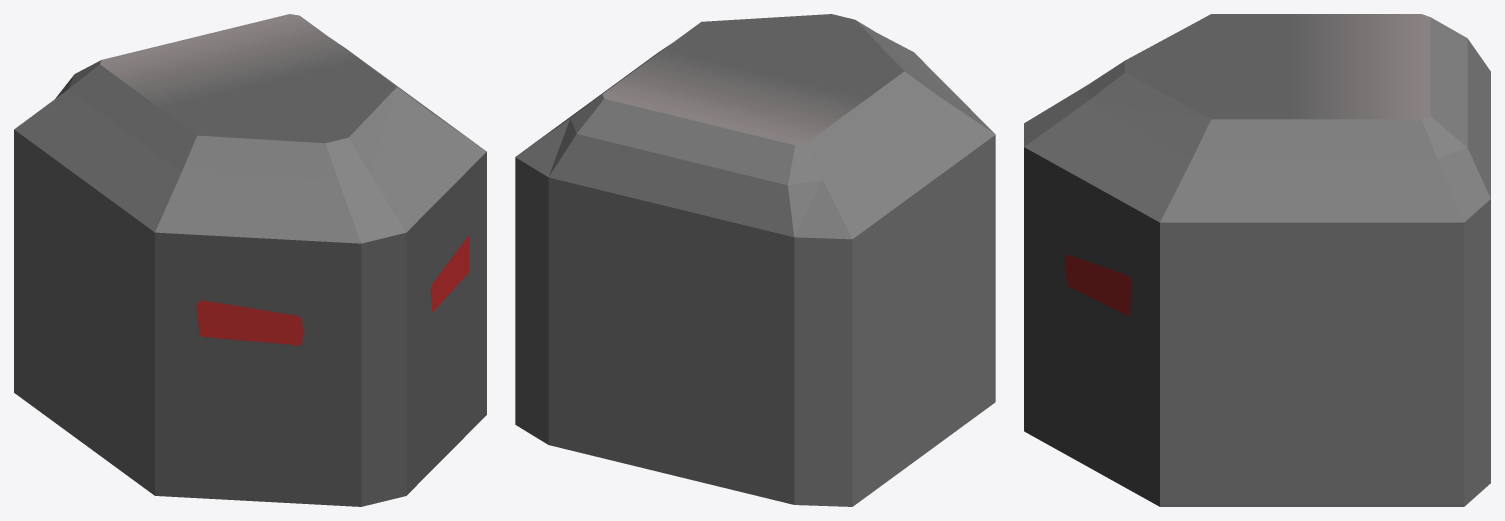
File: player.obj
The picture shows the model from 3 angles, left to right: view 1: azimuth 30°, elevation 25°; view 2: azimuth 150°, elevation 25°; view 3: azimuth 270°, elevation 25°; orthographic projection. The views are drawn at different scales.
Visible parts, largest first — view 1: 立方体; view 2: 立方体; view 3: 立方体.
Boxes of the visible parts, <box> form: 立方体: <box>14,14,486,506</box>; 立方体: <box>515,14,995,506</box>; 立方体: <box>1024,14,1490,506</box>.
Bounding box in the file's own units: 1.24 × 1.17 × 1.4.
1 material, 1 textured.
